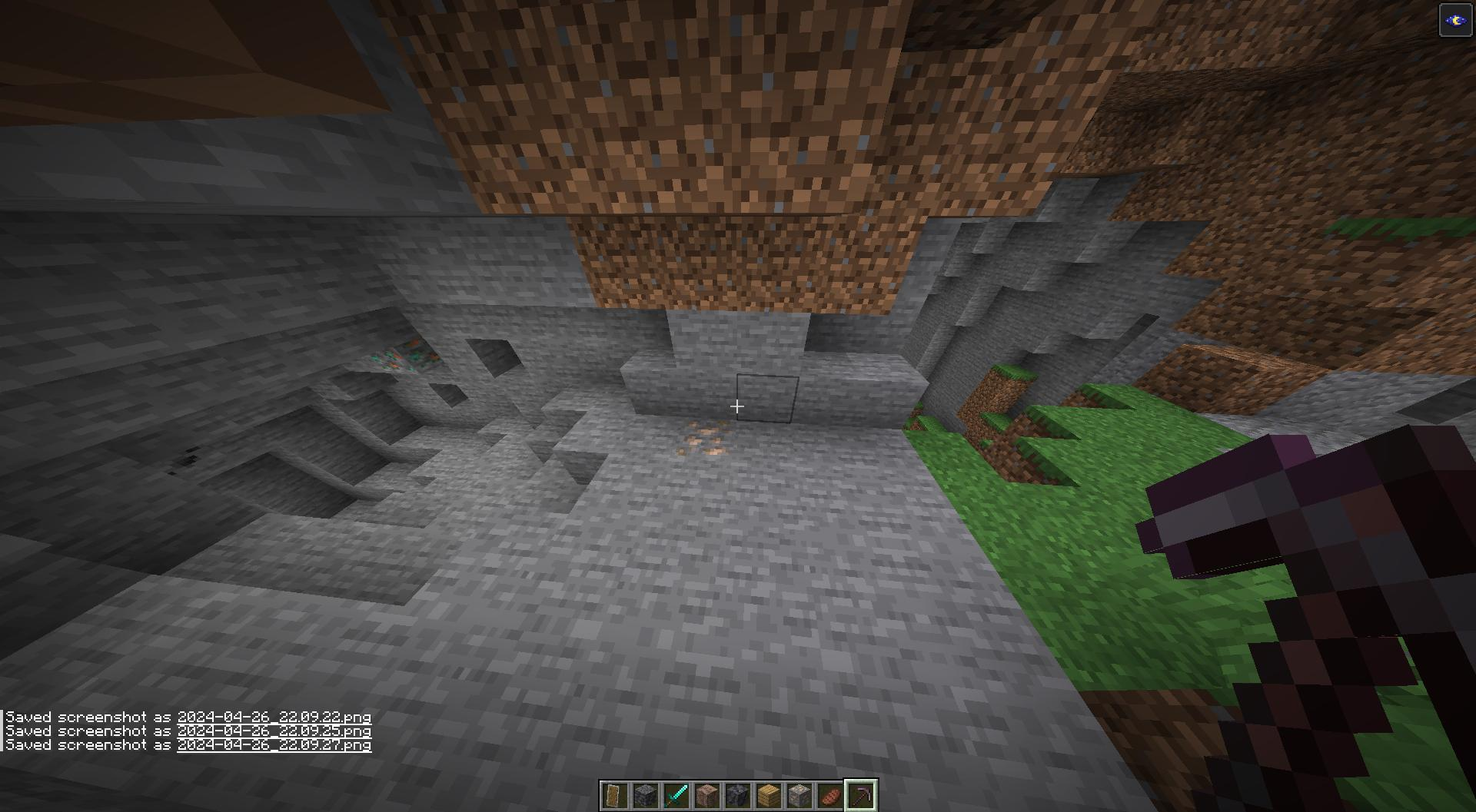iron ore: (679, 417, 730, 461)
